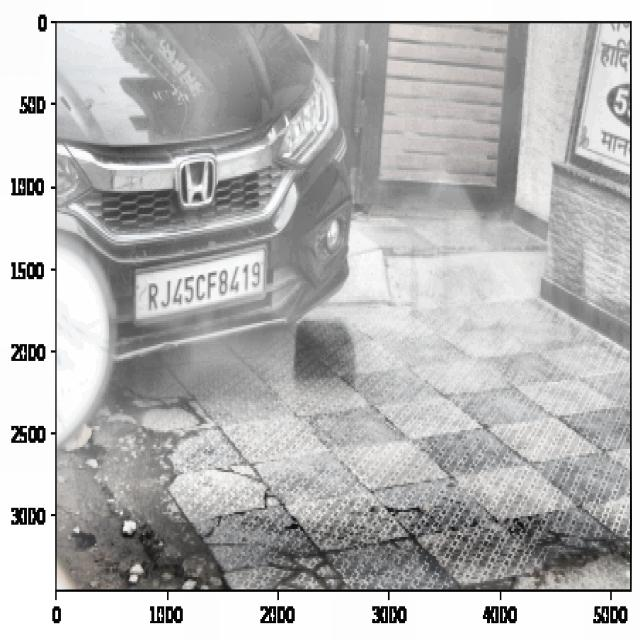license_plate: (144, 256, 264, 318)
